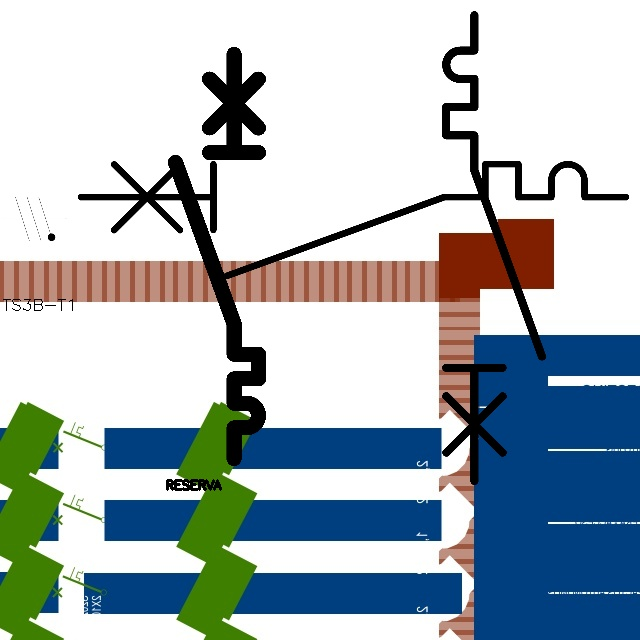interruptor_termomagnetico: (66, 150, 639, 290), (434, 3, 554, 492), (165, 44, 269, 469)
